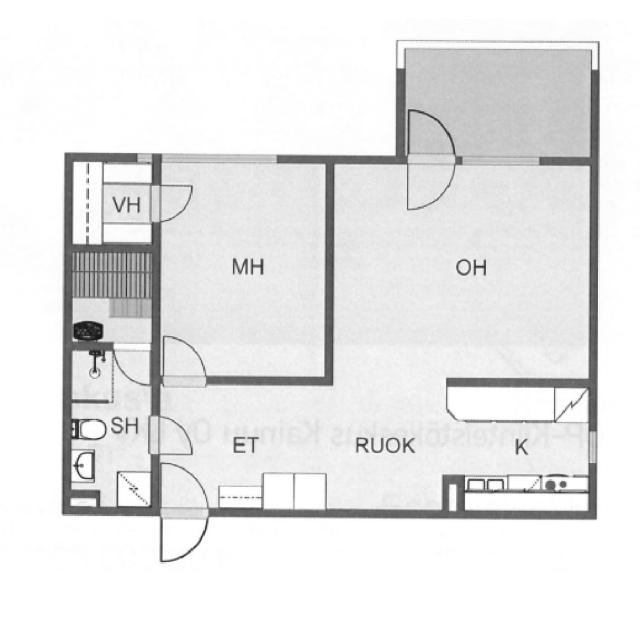door: (156, 455, 212, 569), (402, 100, 456, 218), (155, 324, 216, 392), (141, 408, 197, 458), (146, 178, 198, 224)
window: (126, 146, 294, 172), (450, 146, 548, 176), (579, 422, 601, 477)
zone: (328, 156, 594, 386), (158, 159, 326, 383), (446, 378, 596, 514), (66, 345, 154, 518), (61, 242, 159, 352), (65, 155, 153, 245)
